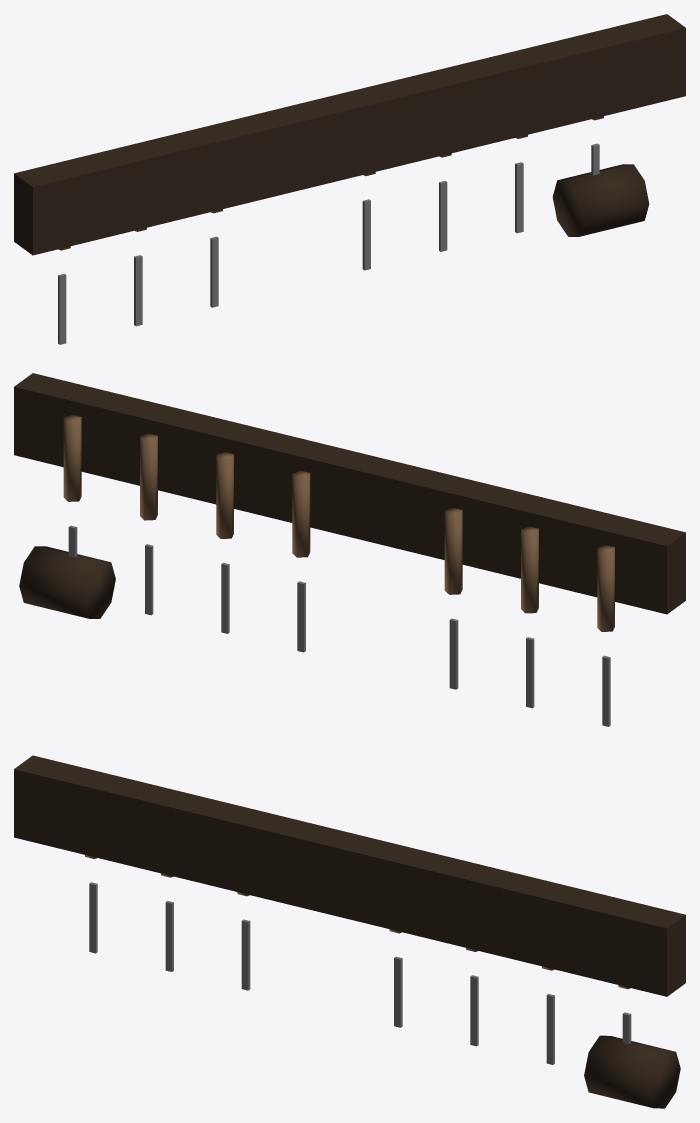
Rendered from carving_tools.glb.
3 renders of one model, top to bottom at view 1: azimuth 30°, elevation 25°; view 2: azimuth 150°, elevation 25°; view 3: azimuth 330°, elevation 25°, orthographic.
Parts seen in each view (by area): view 1: carving_tools; view 2: carving_tools; view 3: carving_tools.
Boxes of the visible parts, bbox=[...] form: carving_tools: bbox=[14, 14, 685, 344]; carving_tools: bbox=[14, 373, 685, 726]; carving_tools: bbox=[14, 755, 685, 1108].
Bounding box in the file's own units: 1.2 × 0.36 × 0.13.
